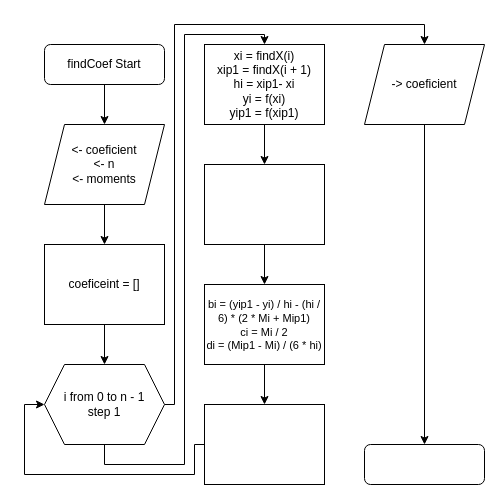
The diagram is 502 pixels wide and 502 high, and some of its shapes have lost their labels. Each missing label, with the box of its shape:
coefficient.push([ai, bi, ci, di]): (204, 404, 324, 484)
findCoef end: (364, 444, 484, 484)
Mi = moments[i] Mip1 = moments[i + 1] ai = y1: (204, 164, 324, 244)
